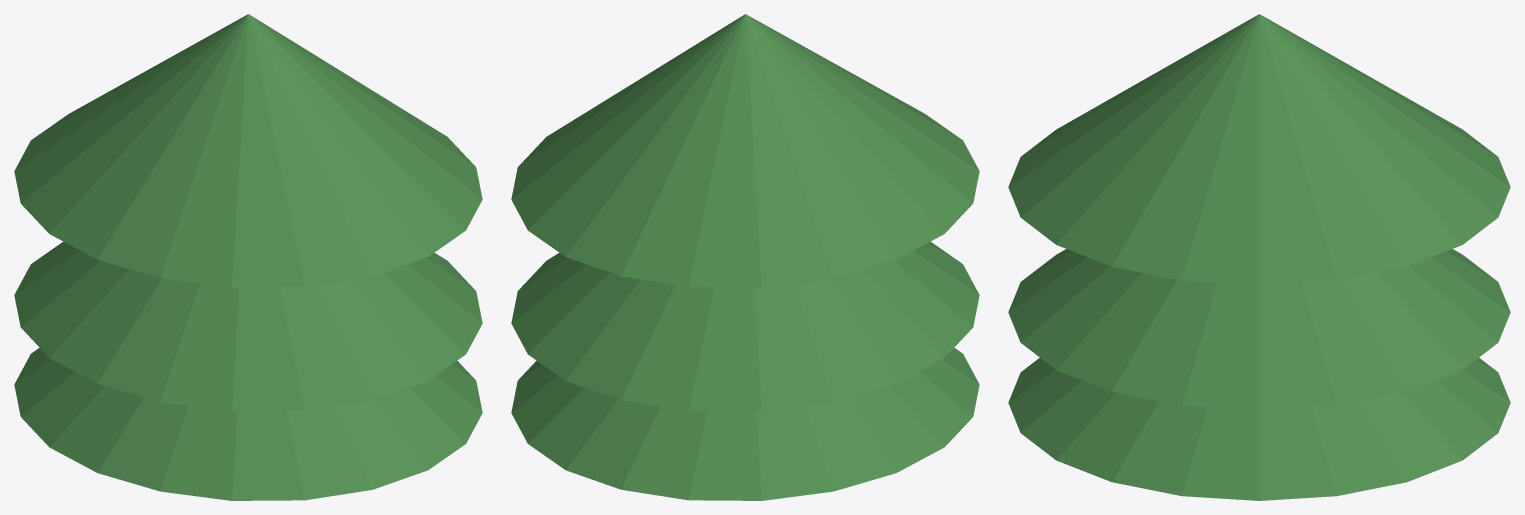
File: treetest.fbx
The picture shows the model from 3 angles, left to right: view 1: azimuth 30°, elevation 25°; view 2: azimuth 150°, elevation 25°; view 3: azimuth 270°, elevation 25°; orthographic projection.
Visible parts, largest first — view 1: pCylinder2; view 2: pCylinder2; view 3: pCylinder2.
Part boxes in pixels (bbox=[...]): pCylinder2: bbox=[14, 14, 482, 500]; pCylinder2: bbox=[511, 14, 979, 500]; pCylinder2: bbox=[1008, 14, 1510, 500].
Bounding box in the file's own units: 778 × 822 × 841.
